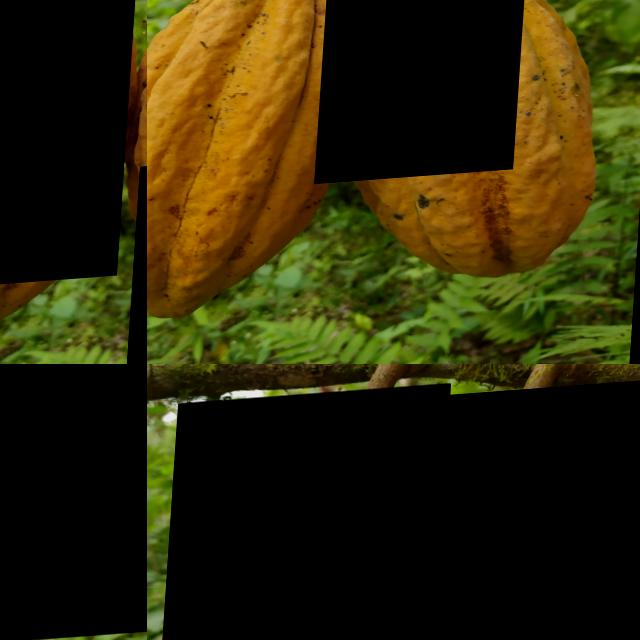Fitoftora: (319, 0, 536, 188), (0, 364, 147, 640)
Sana: (161, 389, 453, 640), (421, 386, 640, 640), (0, 0, 142, 293)
